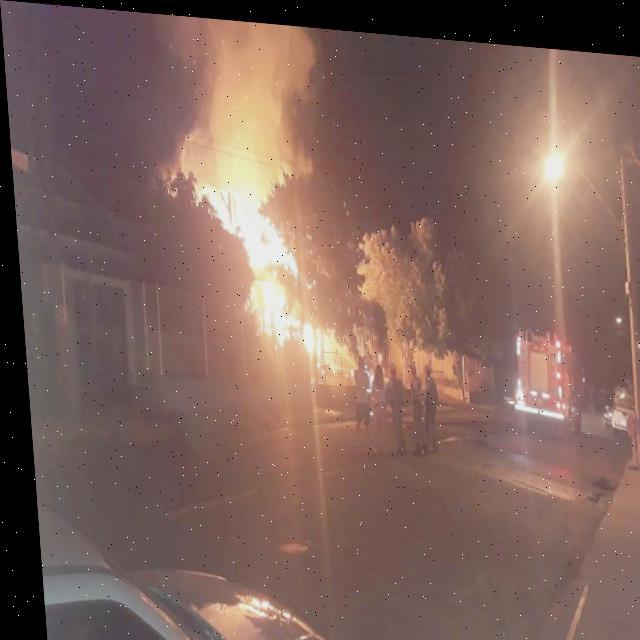Fire: (152, 16, 350, 377)
